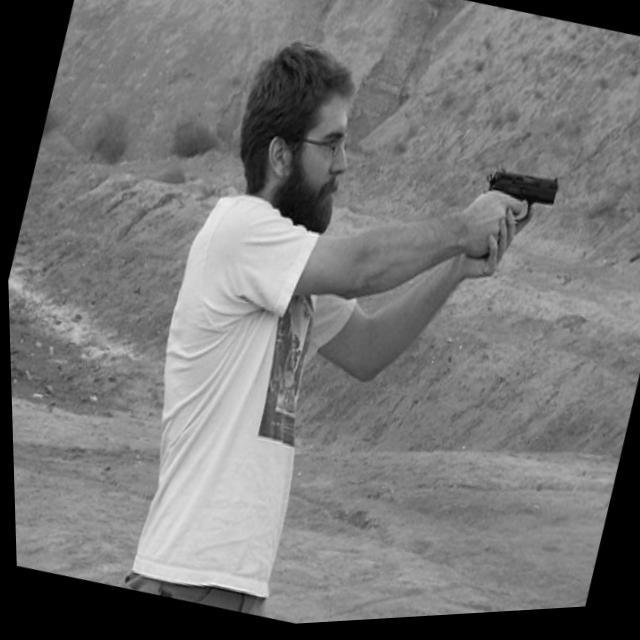weapon: (474, 163, 564, 241)
